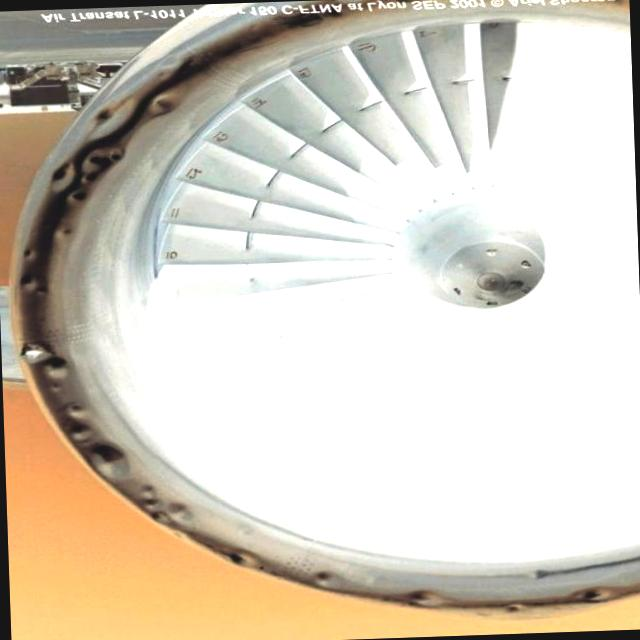dent: (26, 48, 195, 213), (70, 438, 136, 484)
